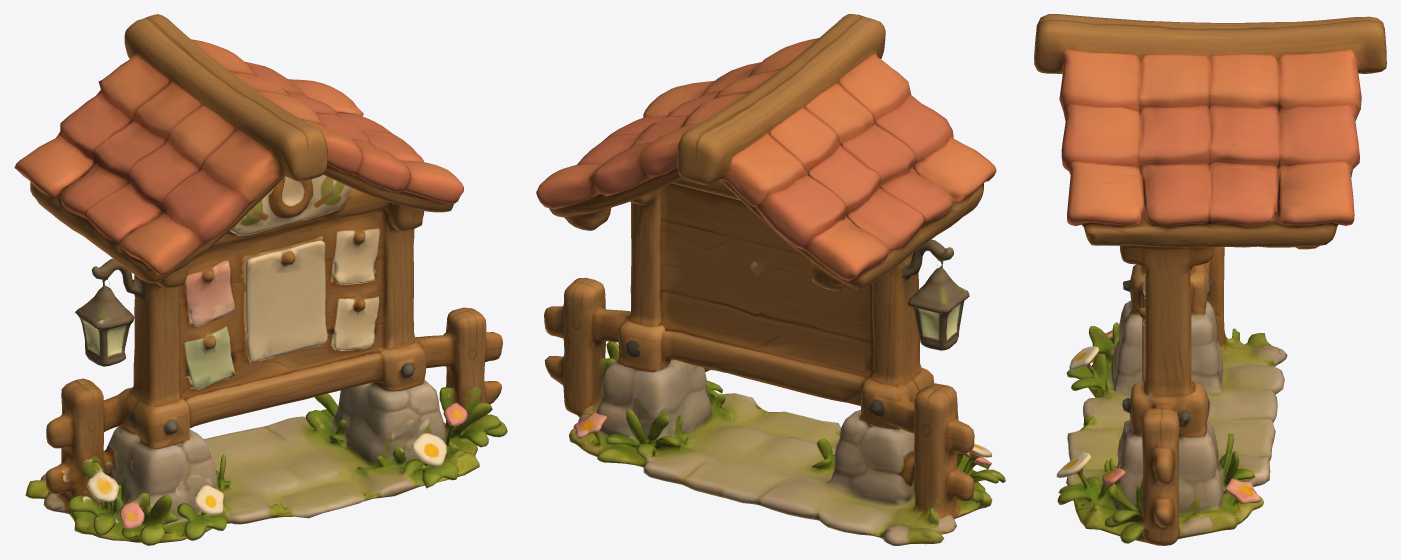
3 renders of one model, left to right at view 1: azimuth 30°, elevation 25°; view 2: azimuth 150°, elevation 25°; view 3: azimuth 270°, elevation 25°, orthographic. The views are drawn at different scales.
Parts seen in each view (by area): view 1: tripo_node_962ee318-f356-41fc-a730-feeeb21c03d3; view 2: tripo_node_962ee318-f356-41fc-a730-feeeb21c03d3; view 3: tripo_node_962ee318-f356-41fc-a730-feeeb21c03d3.
Boxes of the visible parts, x1=… form: tripo_node_962ee318-f356-41fc-a730-feeeb21c03d3: x1=14, y1=14, x2=507, y2=545; tripo_node_962ee318-f356-41fc-a730-feeeb21c03d3: x1=536, y1=14, x2=1005, y2=545; tripo_node_962ee318-f356-41fc-a730-feeeb21c03d3: x1=1034, y1=14, x2=1386, y2=545.
Size of the model in its own units: 2.76 by 2.4 by 1.86.
1 material, 1 textured.
